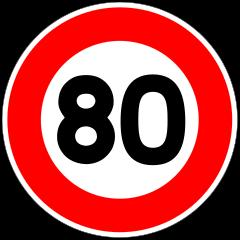Speed Limit -80-: (49, 67, 192, 177)
